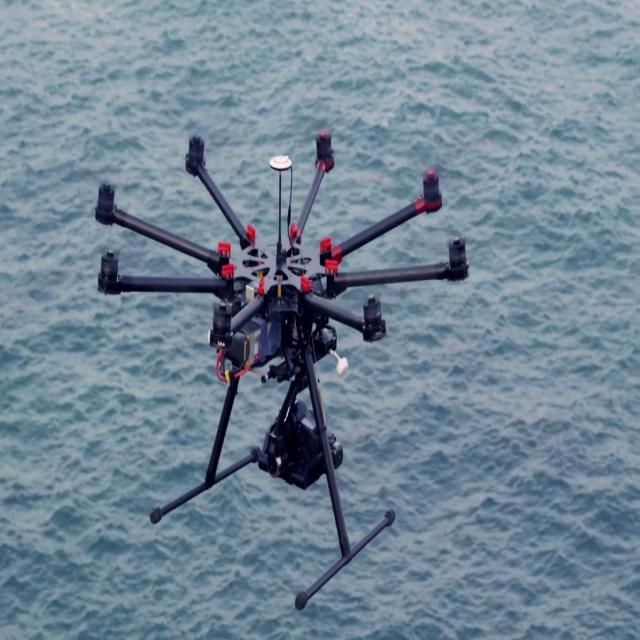drone: (97, 144, 460, 562)
